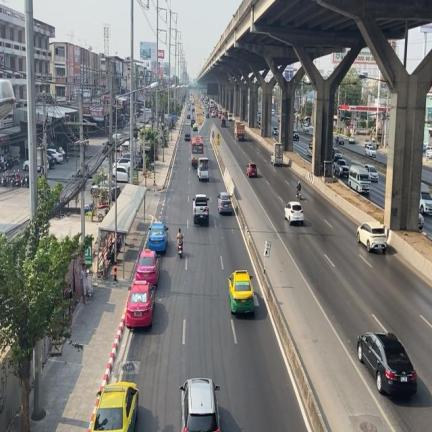bus: (191, 135, 203, 167)
car: (358, 333, 416, 394), (180, 378, 219, 431), (357, 221, 386, 252), (285, 202, 303, 224), (217, 192, 232, 213), (335, 158, 348, 177), (198, 157, 208, 181), (364, 165, 378, 182), (246, 162, 256, 177)
motorbike: (14, 171, 20, 186), (1, 173, 6, 186), (25, 174, 29, 188), (178, 243, 182, 257), (21, 175, 26, 186), (296, 190, 300, 200)
pickup: (193, 194, 209, 225)
taxi: (92, 381, 138, 431), (125, 280, 155, 327), (228, 270, 253, 313), (136, 248, 159, 285), (148, 221, 167, 252)
truck: (271, 142, 283, 165)
van: (349, 165, 370, 194)
